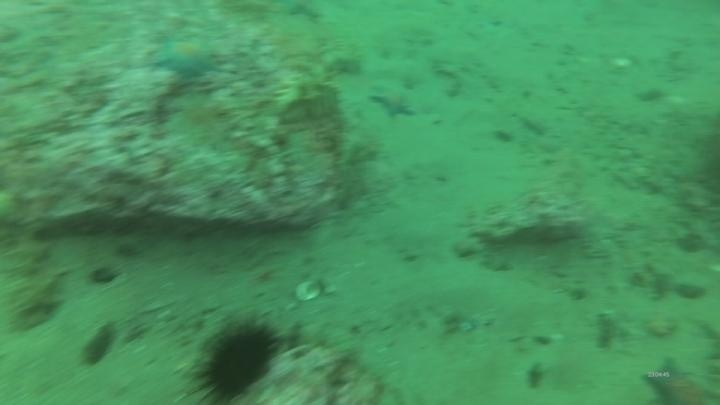echinus: (191, 315, 283, 403)
holothurian: (1, 211, 67, 332)
starfish: (639, 355, 719, 405), (149, 34, 223, 81), (367, 83, 418, 123)
